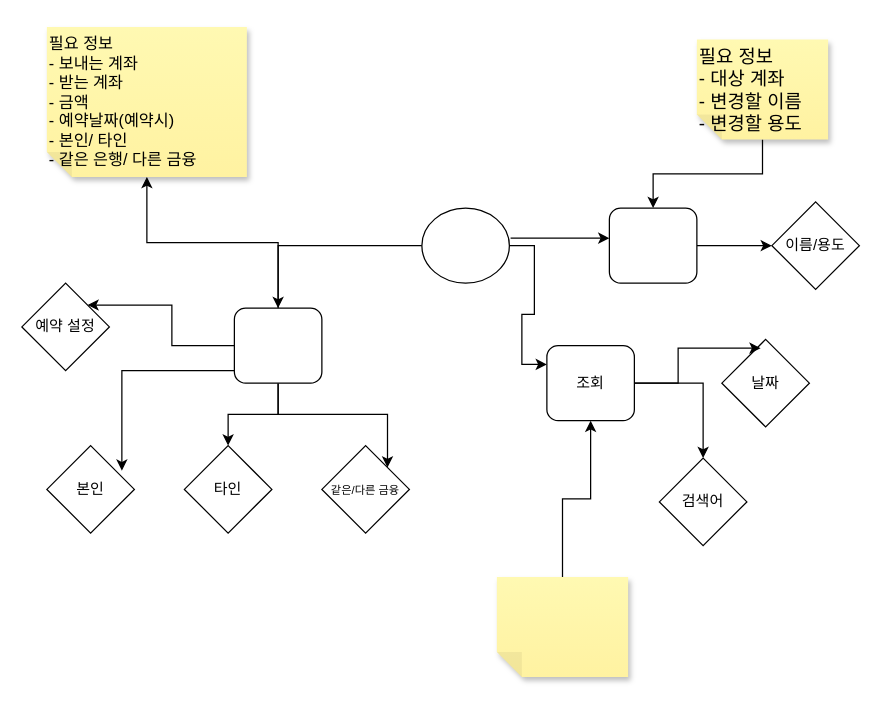
Image size: 881x706. Some labels were removed from this diagram. The shapes that lost their labels are listed below. From the top down, each one's centre as x and y in pixels, then its label:
At (465,245): "계좌".
At (652,245): "설정".
At (277,345): "이체".
At (563,628): "필요 정보 - 조회할 계좌 - 기간 - 검색어(선택)".
